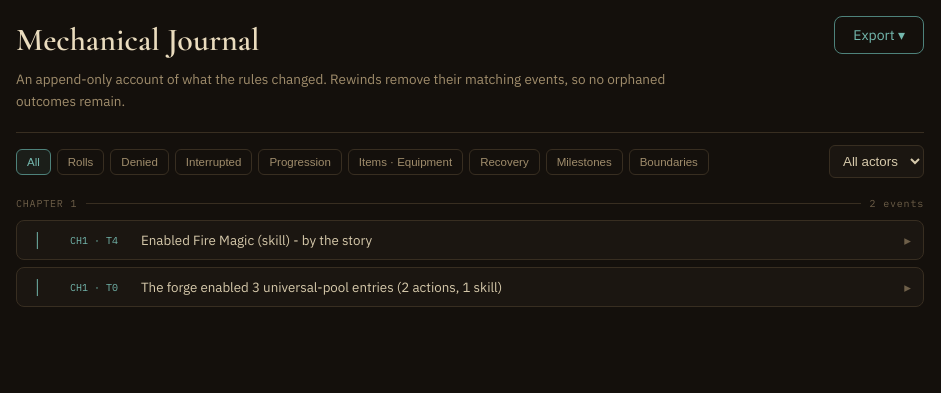
Scenario: Mechanical Journal › names forge pool enablements and folds them into one boundary entry
Expected: the text "Enabled Fire Magic (skill) - by the story" is shown, top-left (141, 231), bottom-right (372, 249)
Expected: the text "2 events" is shown, top-left (870, 196), bottom-right (924, 211)
Step 1. Click the text "The forge enabled 3 universal-pool entries (2 actions, 1 skill)" → (322, 287), box top-left (141, 278), bottom-right (502, 296)
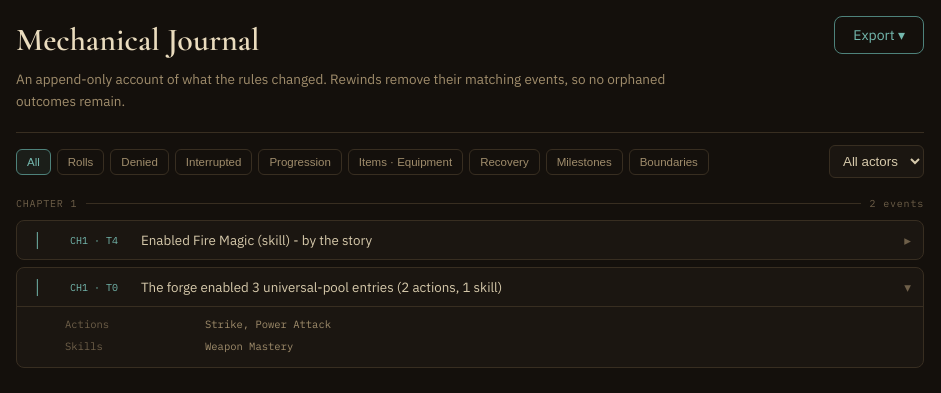
Now the text "Strike, Power Attack" is shown, box top-left (205, 317), bottom-right (331, 331)
Now the text "Weapon Mastery" is shown, box top-left (205, 339), bottom-right (293, 353)
Step 2. Click the button "Milestones" → (584, 162), box top-left (546, 149), bottom-right (623, 175)
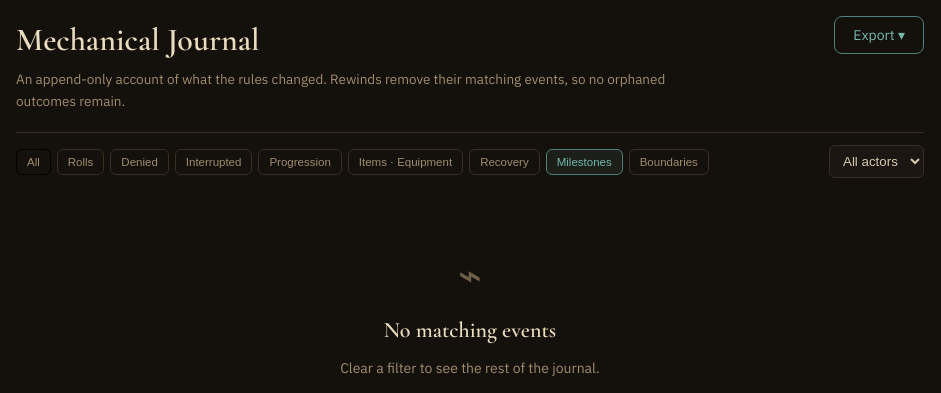
Now the text "No matching events" is shown, box top-left (384, 314), bottom-right (556, 347)
Step 3. Click the button "Boundaries" → (669, 162), box top-left (629, 149), bottom-right (709, 175)
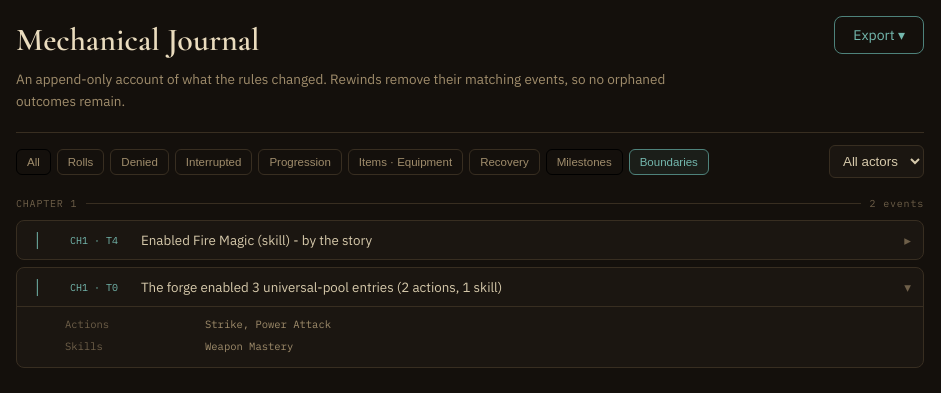
Now the text "The forge enabled 3" is shown, box top-left (141, 278), bottom-right (502, 296)
Now the text "Enabled Fire Magic (skill) - by the story" is shown, box top-left (141, 231), bottom-right (372, 249)
